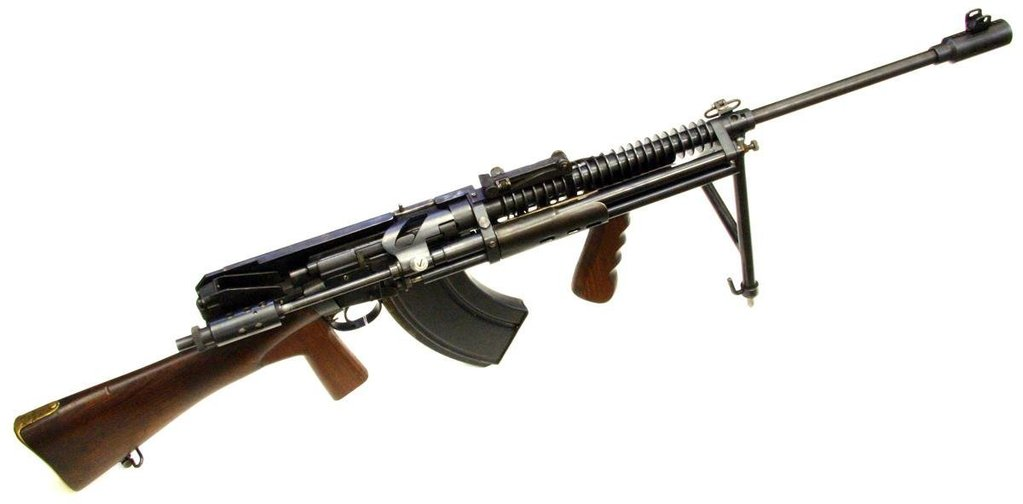rifle: (19, 24, 1010, 488)
